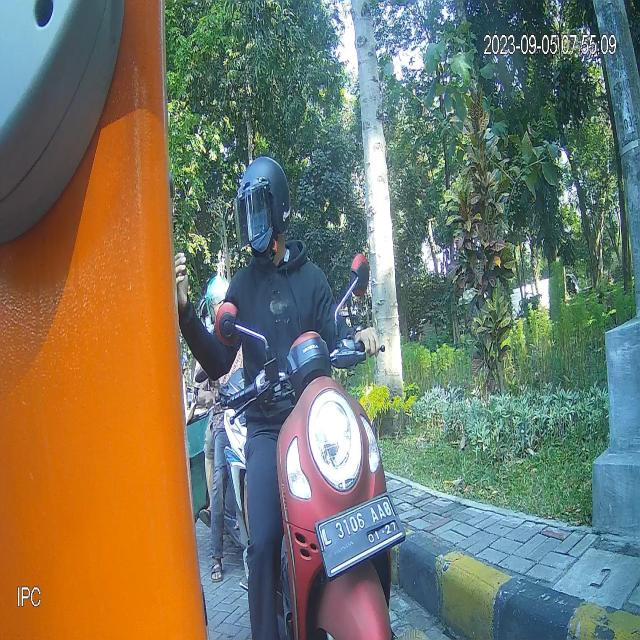license-plate: (314, 490, 408, 585)
